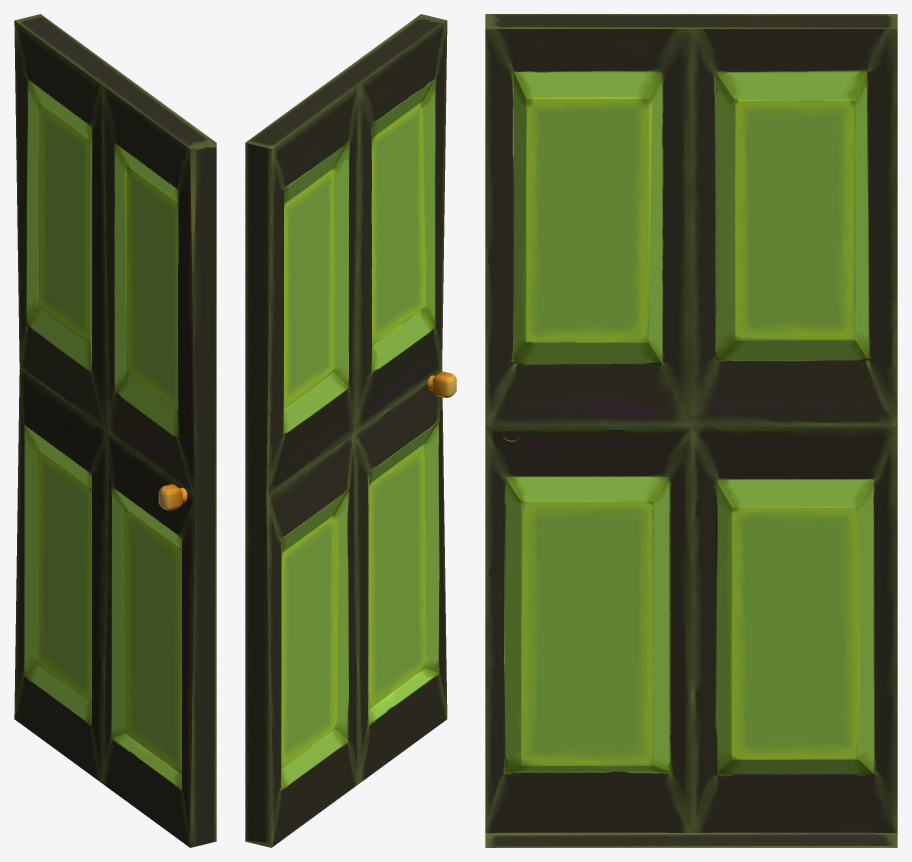
The model's file is DOOR_C.fbx.
The picture shows the model from 3 angles, left to right: view 1: azimuth 30°, elevation 25°; view 2: azimuth 150°, elevation 25°; view 3: azimuth 270°, elevation 25°; orthographic projection. The views are drawn at different scales.
Parts seen in each view (by area): view 1: door_finished; view 2: door_finished; view 3: door_finished.
Boxes of the visible parts, x1,y1,x2,y2 form: door_finished: (14, 14, 216, 847); door_finished: (245, 14, 456, 847); door_finished: (485, 14, 897, 847).
Bounding box in the file's own units: 22.7 × 335 × 153.
